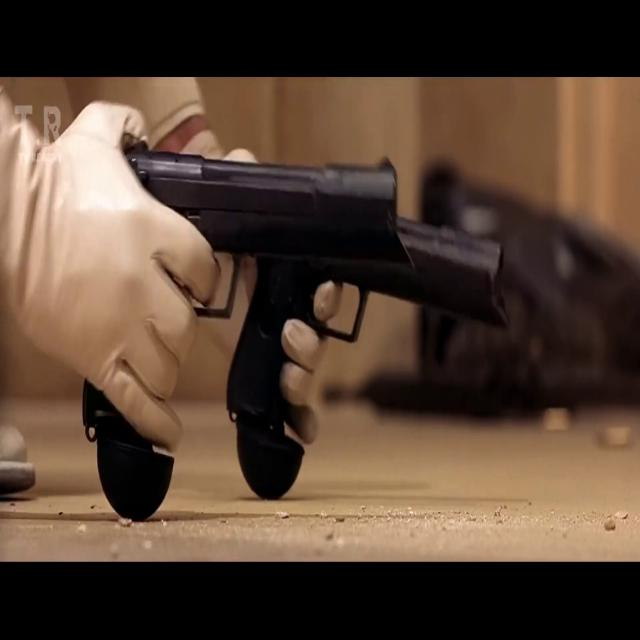handgun: (50, 103, 402, 497), (225, 142, 516, 512)
